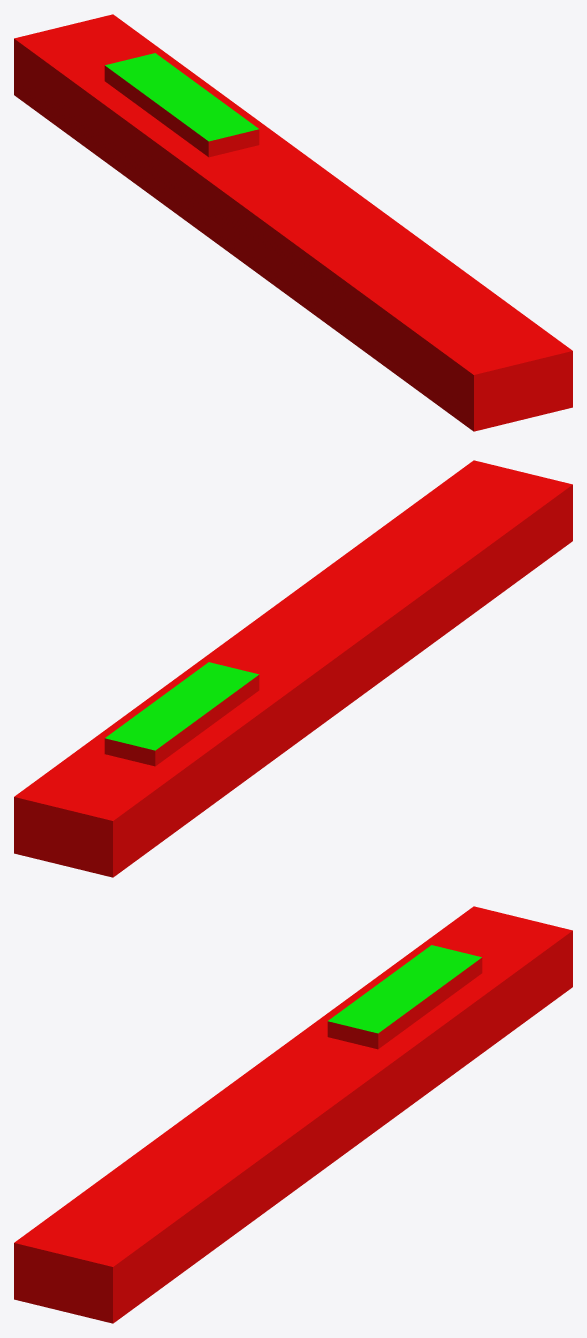
The model's file is labeled.obj.
3 views of the same model, one above another, from view 1: azimuth 30°, elevation 25°; view 2: azimuth 150°, elevation 25°; view 3: azimuth 330°, elevation 25° (orthographic).
Bounding box in the file's own units: 0.0178 × 0.0125 × 0.1433.
